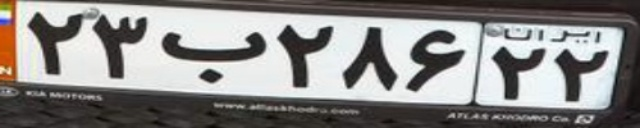2: (275, 22, 335, 88), (27, 12, 79, 75), (492, 44, 548, 100), (553, 48, 607, 101)
3: (91, 13, 148, 78)
6: (408, 30, 465, 91)
8: (339, 26, 397, 90)
be: (161, 29, 267, 84)
